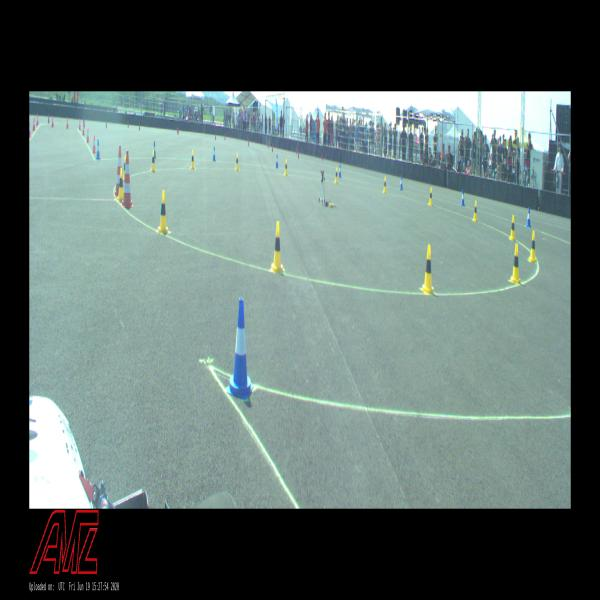blue_cone: (226, 298, 254, 399), (526, 207, 531, 227), (96, 140, 100, 159), (152, 141, 156, 158), (400, 175, 403, 190), (461, 190, 464, 205), (213, 147, 215, 161), (276, 154, 278, 168), (339, 164, 341, 177)
large_orange_cone: (123, 152, 134, 208), (115, 146, 122, 196)
orange_cone: (92, 136, 96, 153), (82, 123, 85, 135), (29, 122, 31, 138), (87, 129, 89, 142), (33, 118, 35, 130), (52, 116, 54, 127), (79, 119, 81, 130), (36, 115, 38, 125), (67, 118, 68, 129)
unknown_cone: (48, 115, 50, 123)
yellow_cone: (272, 222, 284, 271), (423, 245, 434, 294), (158, 190, 169, 233), (511, 244, 520, 284), (528, 231, 536, 261), (118, 167, 124, 201), (510, 215, 515, 240), (151, 151, 155, 172), (473, 201, 477, 221), (235, 154, 240, 170), (191, 150, 195, 169), (284, 159, 288, 176), (429, 187, 432, 206), (124, 156, 126, 180), (335, 168, 338, 183), (384, 177, 386, 193)
